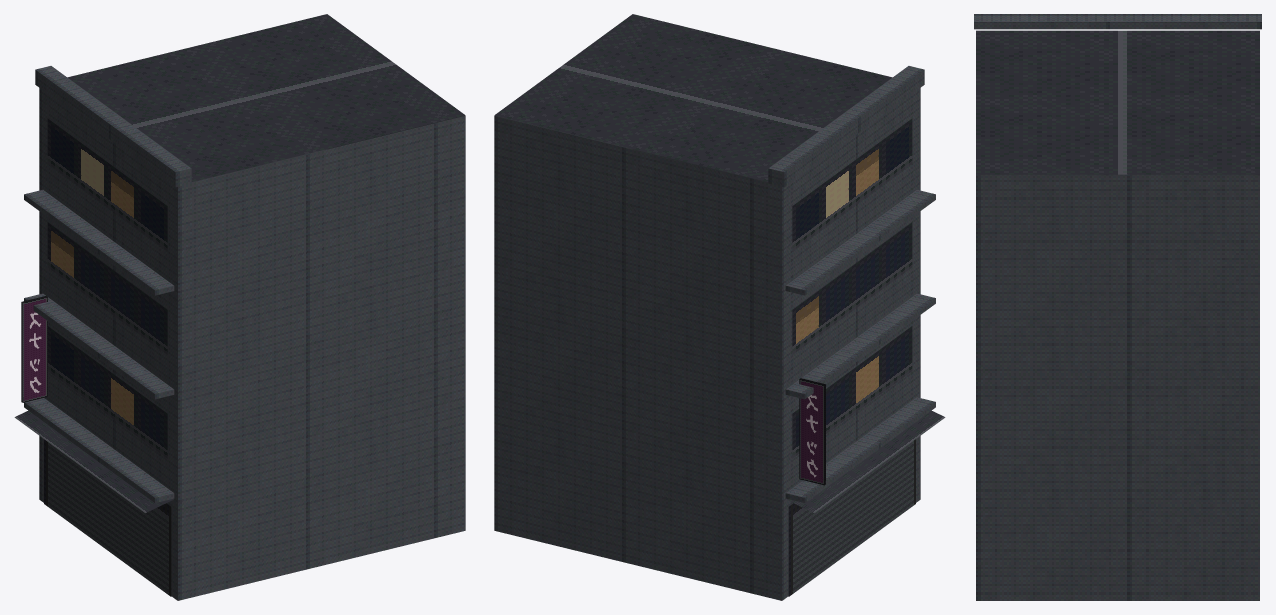
The model's file is mtn_block_up_b.glb.
The picture shows the model from 3 angles, left to right: view 1: azimuth 30°, elevation 25°; view 2: azimuth 150°, elevation 25°; view 3: azimuth 270°, elevation 25°; orthographic projection. The views are drawn at different scales.
Visible parts, largest first — view 1: mtn_block_up_b; view 2: mtn_block_up_b; view 3: mtn_block_up_b.
Boxes of the visible parts, bbox=[...] form: mtn_block_up_b: bbox=[14, 14, 465, 600]; mtn_block_up_b: bbox=[494, 14, 945, 600]; mtn_block_up_b: bbox=[974, 14, 1261, 600].
Bounding box in the file's own units: 9.95 × 12.85 × 7.6.
5 materials, 5 textured.
